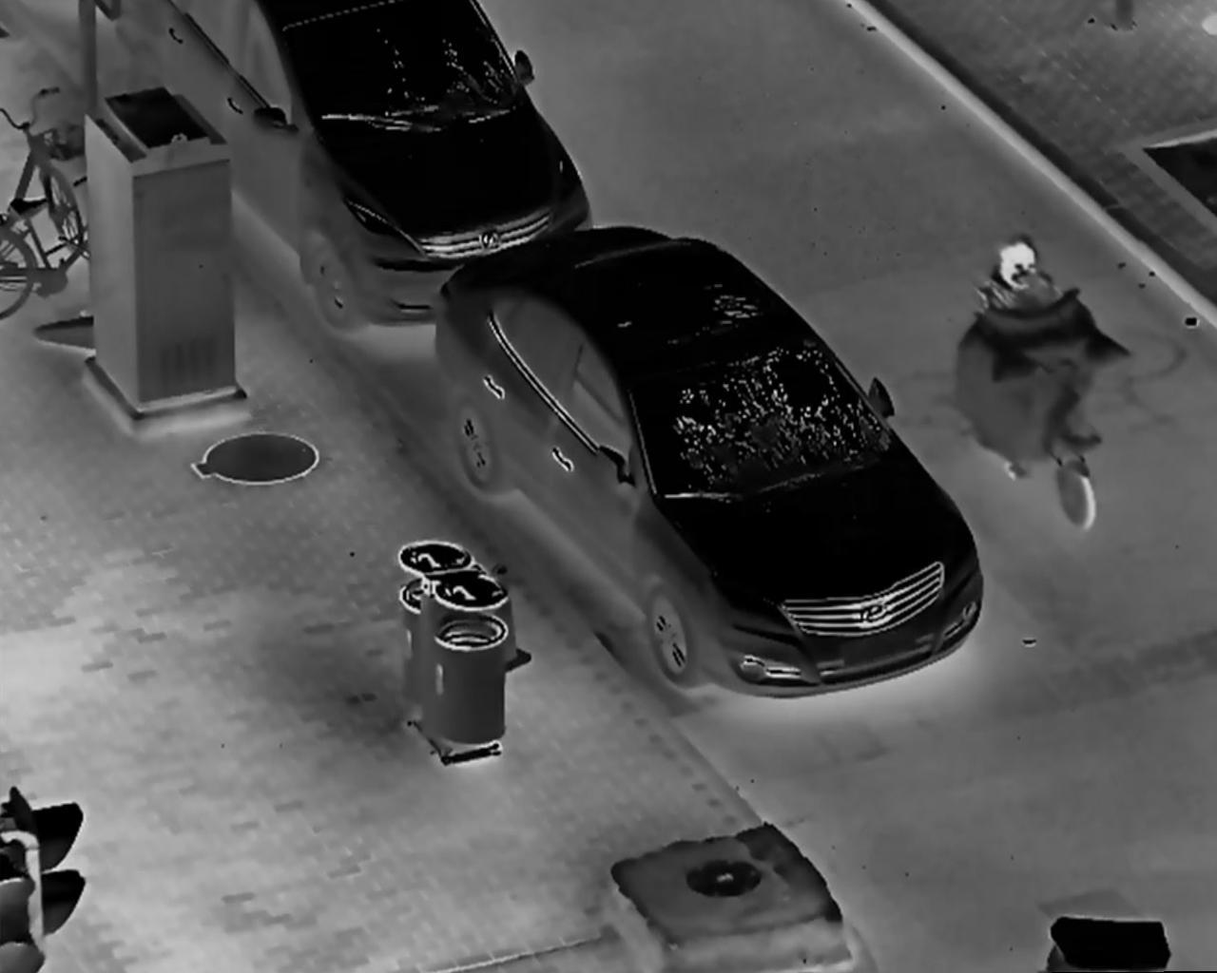person: (963, 233, 1100, 487)
